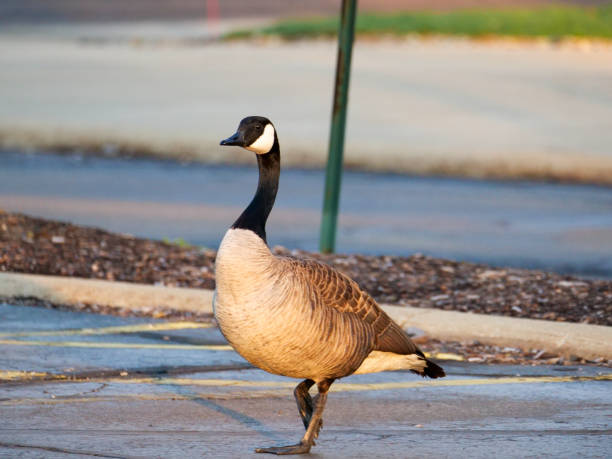goose: (207, 113, 451, 459)
